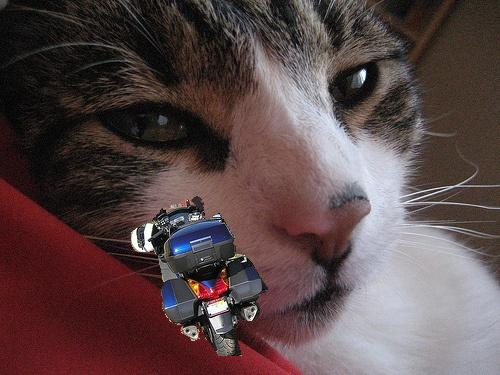tampered: (132, 197, 268, 356)
